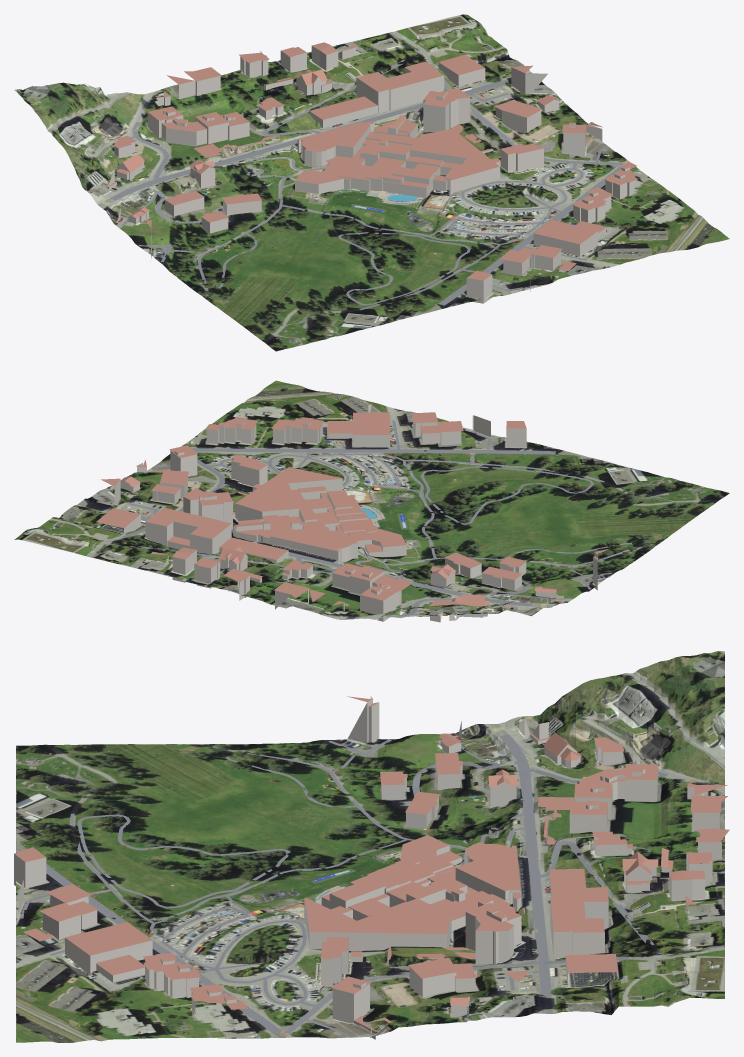
The model's file is verbund_davos.glb.
3 views of the same model, one above another, from view 1: azimuth 30°, elevation 25°; view 2: azimuth 150°, elevation 25°; view 3: azimuth 270°, elevation 25° (orthographic). The views are drawn at different scales.
Visible parts, largest first — view 1: terrain_ground, neighborhood_buildings_walls, neighborhood_buildings_roofs, osm_roads; view 2: terrain_ground, neighborhood_buildings_roofs, neighborhood_buildings_walls, osm_roads; view 3: terrain_ground, neighborhood_buildings_roofs, neighborhood_buildings_walls, osm_roads.
Boxes of the visible parts, bbox=[...] form: terrain_ground: bbox=[14, 14, 729, 351]; neighborhood_buildings_walls: bbox=[108, 46, 635, 303]; neighborhood_buildings_roofs: bbox=[108, 42, 637, 280]; osm_roads: bbox=[110, 59, 622, 310]; terrain_ground: bbox=[14, 380, 729, 619]; neighborhood_buildings_roofs: bbox=[96, 412, 610, 610]; neighborhood_buildings_walls: bbox=[114, 404, 598, 622]; osm_roads: bbox=[121, 420, 631, 616]; terrain_ground: bbox=[16, 651, 724, 1042]; neighborhood_buildings_roofs: bbox=[14, 696, 729, 1031]; neighborhood_buildings_walls: bbox=[14, 696, 721, 1039]; osm_roads: bbox=[20, 734, 668, 1037].
Size of the model in its own units: 407 by 61.85 by 404.
Materials: 5 (1 with a texture image).
